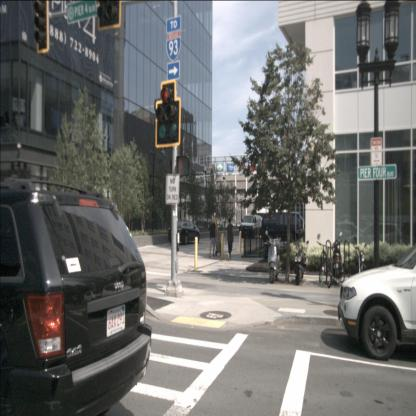human-pedestrian-adult: (208, 218, 218, 258), (225, 218, 234, 260)
vehicle-car: (0, 177, 153, 415), (337, 244, 416, 360), (348, 221, 404, 256), (261, 212, 312, 248), (322, 222, 368, 253), (168, 220, 200, 245)
vehicle-motorcycle: (265, 230, 282, 283), (293, 231, 309, 285), (353, 236, 367, 288), (330, 231, 343, 284)
vehicle-truck: (239, 214, 262, 239)
